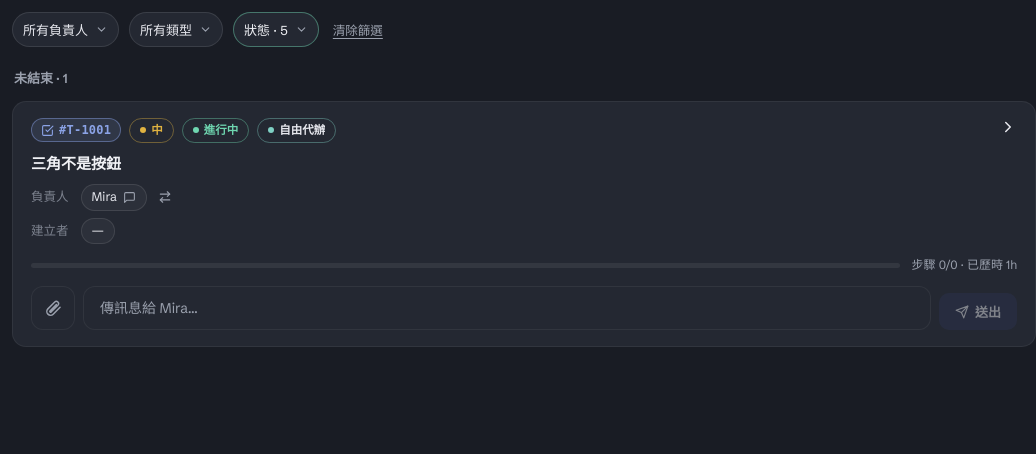
Test case: spec ④ 右上三角展開指示器 › is an indicator, not a button: clicking it still expands through the whole-card toggle
Click the element with test id "task-expand-mark" at (1008, 130), box x1=999 y1=118 x2=1017 y2=142
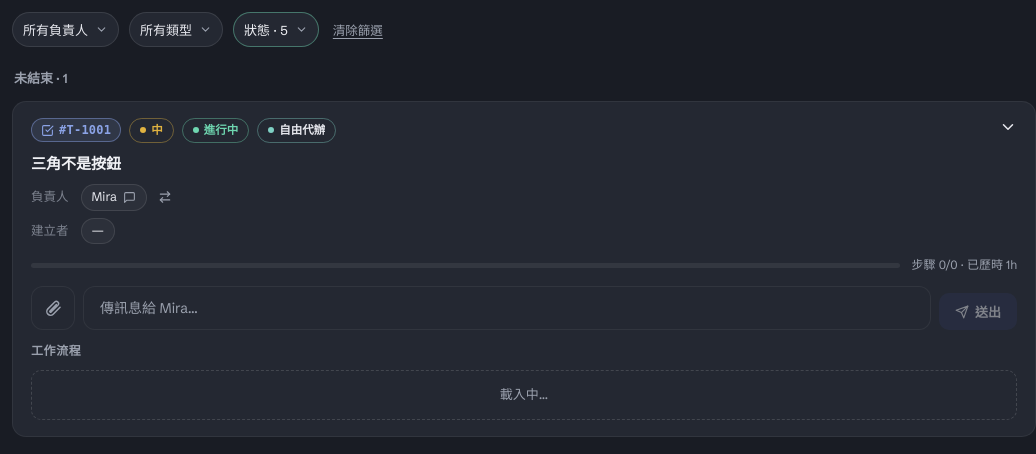
Now the button with test id "task-card" is expanded
Click the element with test id "task-expand-mark" at (1008, 130), box x1=999 y1=118 x2=1017 y2=142
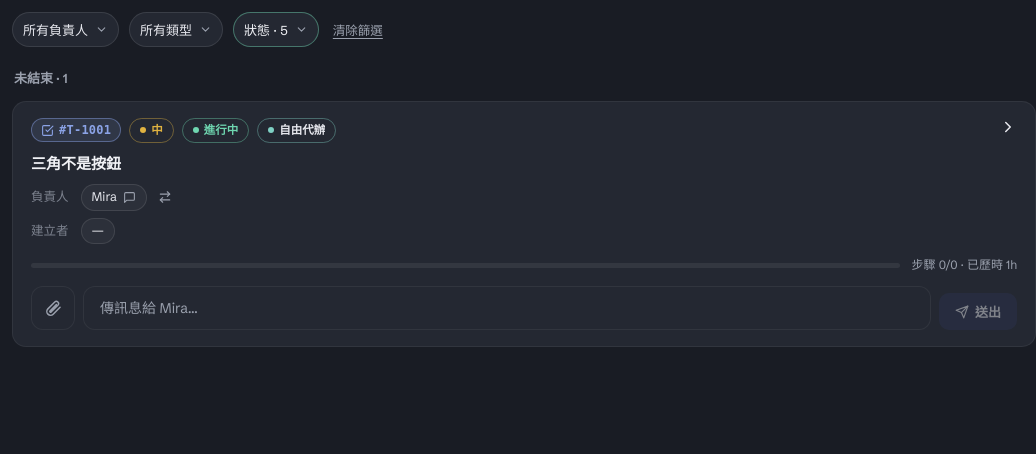
Now the button with test id "task-card" is collapsed, box x1=12 y1=100 x2=1035 y2=347
